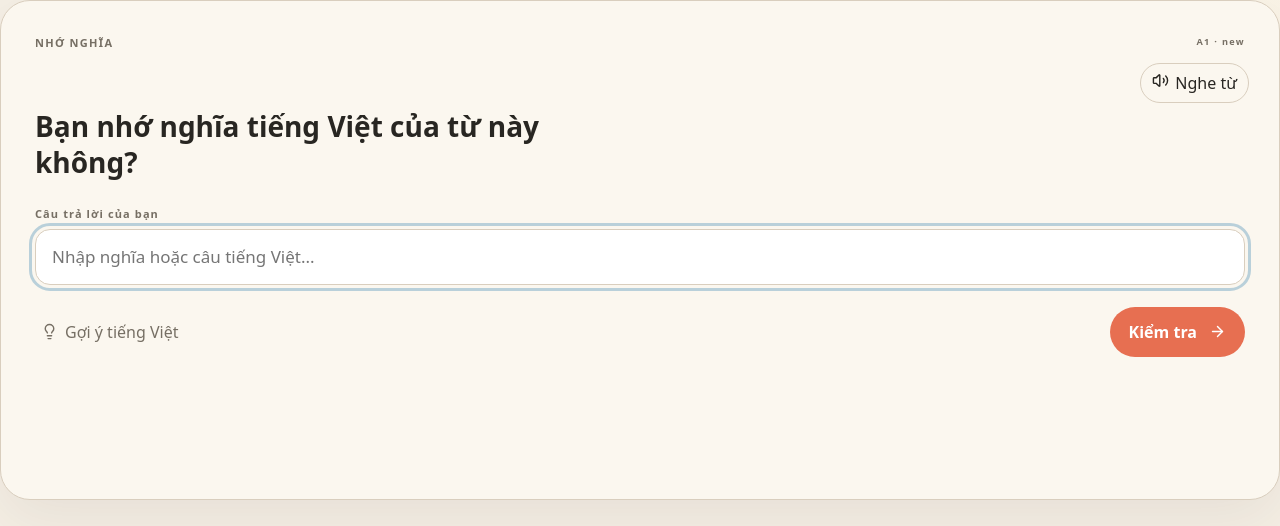
learning cards › shows hint in expected answer language
Click the button "Gợi ý tiếng Việt".
click(110, 332)  # box [35,320,184,344]
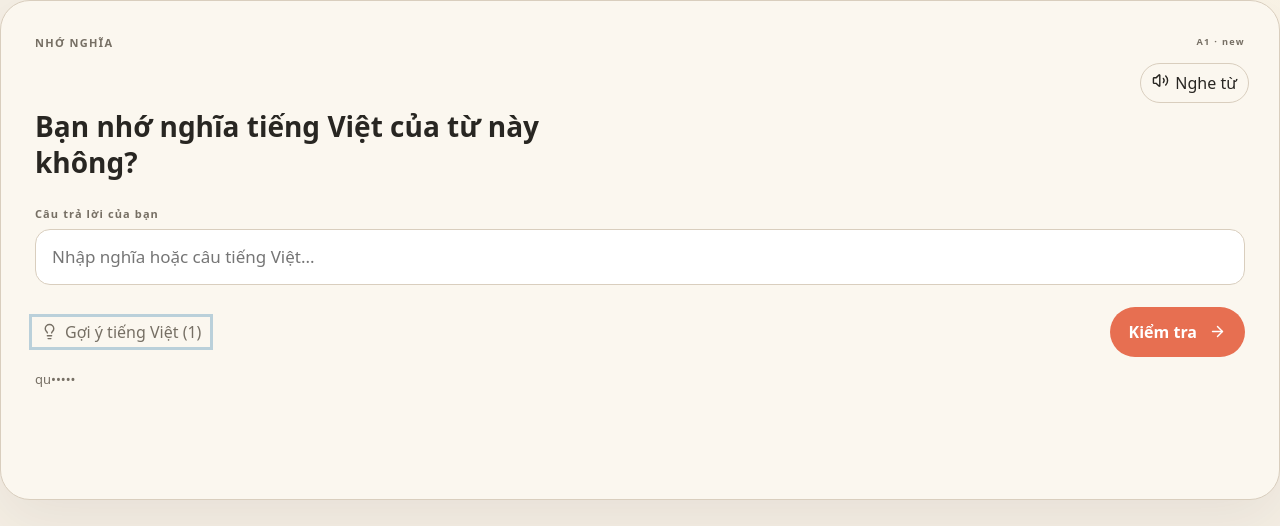
Now the text "qu•••••" is shown, box [35,370,76,388]
